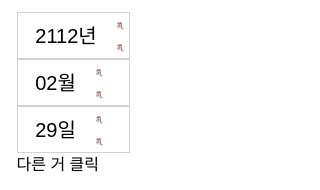
Test case: 인풋끼리 시간 연동 테스트 › 년도를 직접 수정해 2112년에서 2111년으로 바꾸고 다른 곳 클릭하면 28일로 바뀌어야 함
This screenshot has width=320, height=190.
Expected: the 3rd field showing "29일" is shown, [18, 107, 94, 152]
Replace the text in the field with test id "startyear_input" with "2111" at (66, 36), box [18, 13, 114, 58]
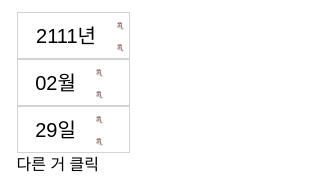
Click the text "다른 거 클릭".
click(58, 164)  # box [16, 156, 99, 173]
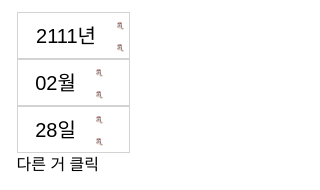
Expected: the 3rd field showing "28일" is shown, [18, 107, 94, 152]
